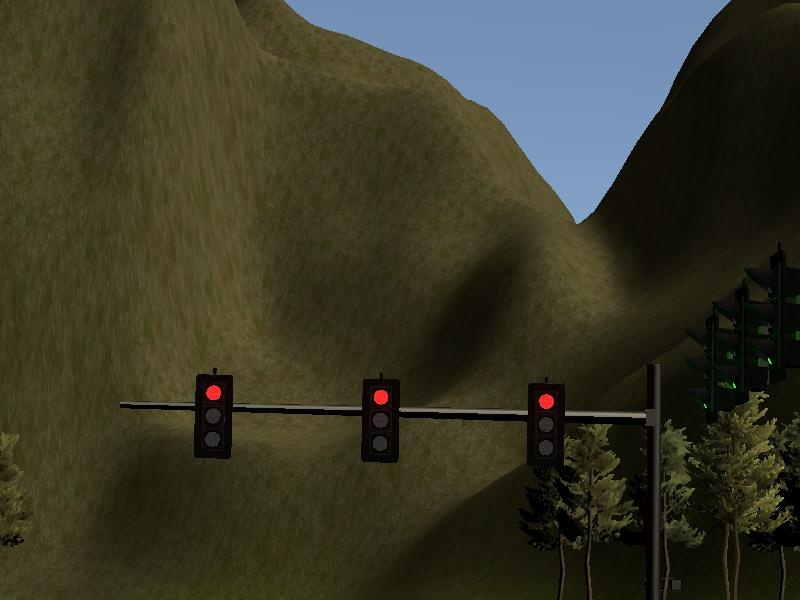red: (187, 367, 240, 467), (354, 376, 404, 467), (524, 376, 566, 473)
